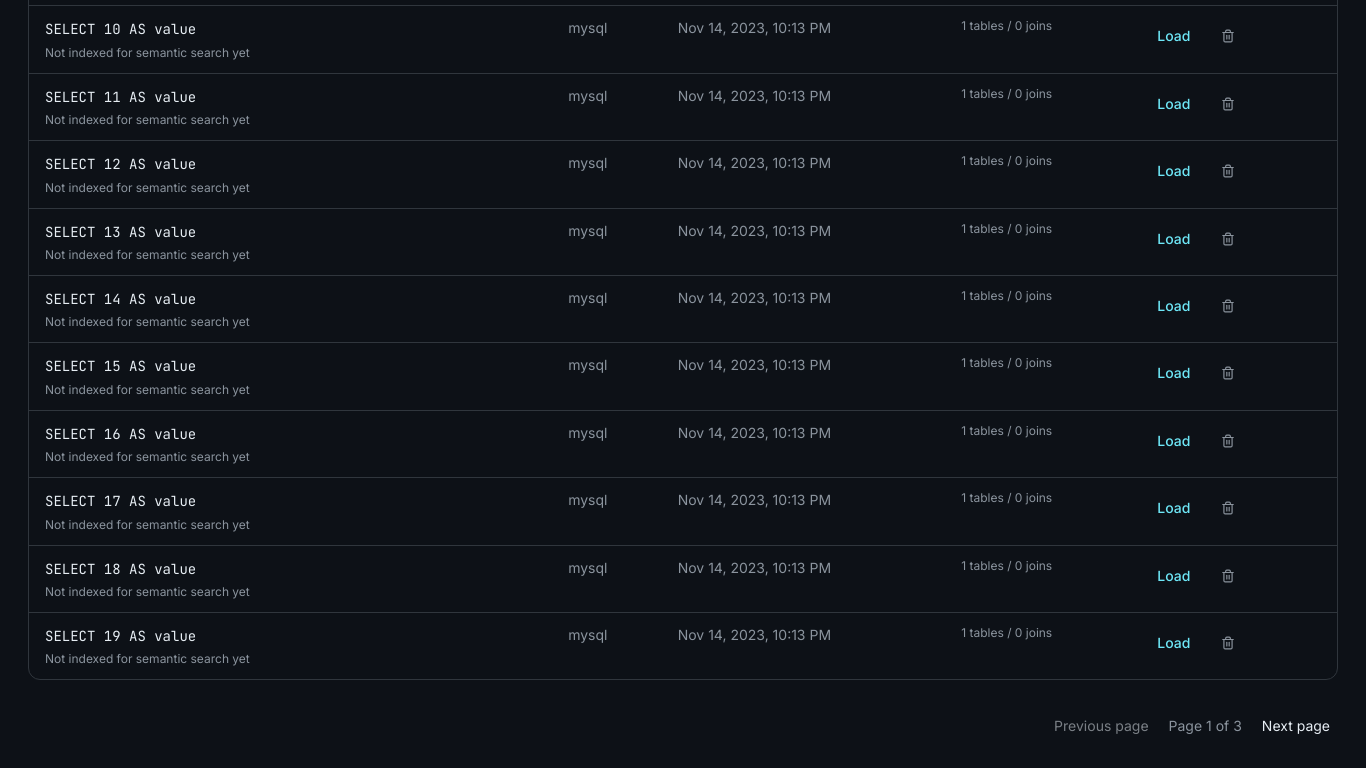
Test: Query history page › paginates 20 entries, filters across pages and resets the page on search
(page scrolled)
Expected: the text "SELECT 20 AS value" is not shown
Click the button "Next page": (1296, 726) [1254,704,1338,748]
(page scrolled)
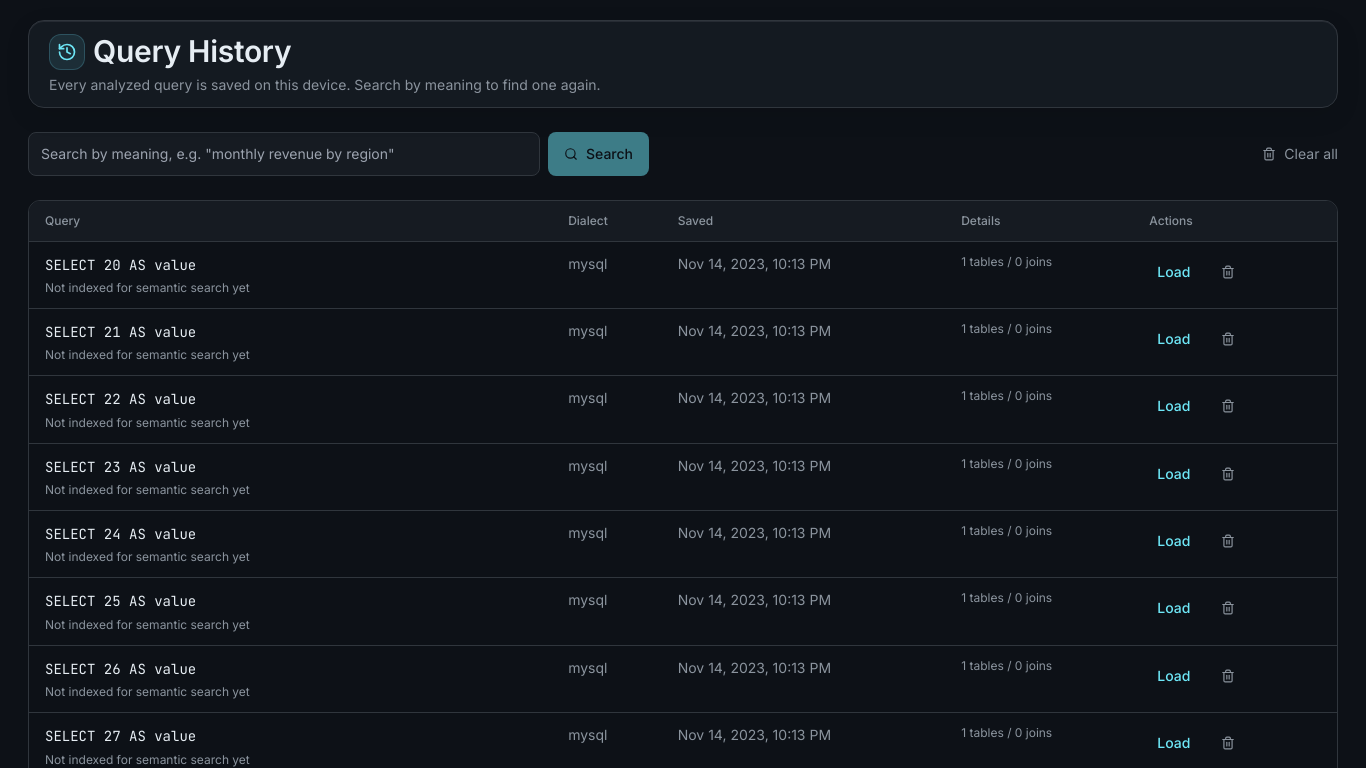
Expected: the text "SELECT 20 AS value" is shown, [45,256,196,274]
In the search field: (284, 154) [28,132,540,176], type "SELECT 40"
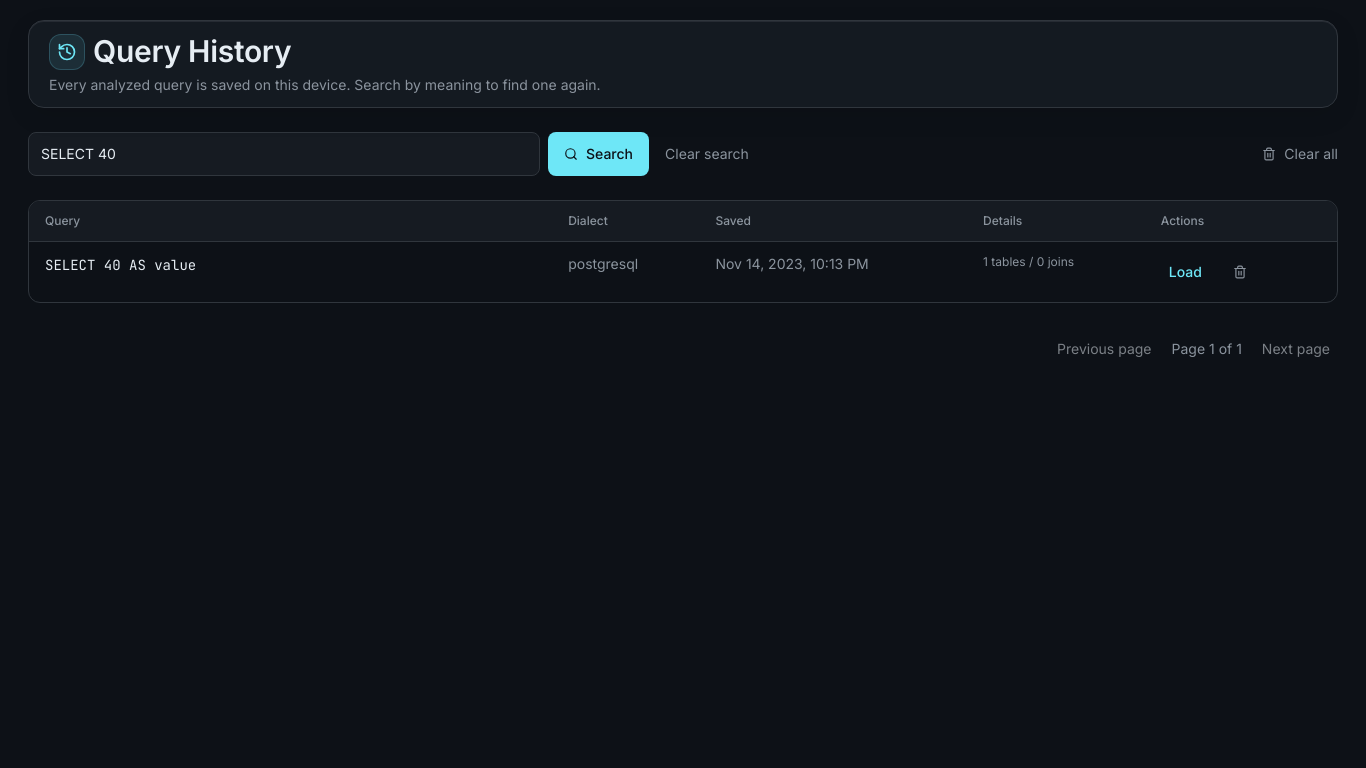
Expected: the text "SELECT 40 AS value" is shown, [45,256,196,274]
Expected: the text "Page 1 of 1" is shown, [1172,338,1242,358]
Click the button "Clear search": (707, 154) [657,132,757,176]
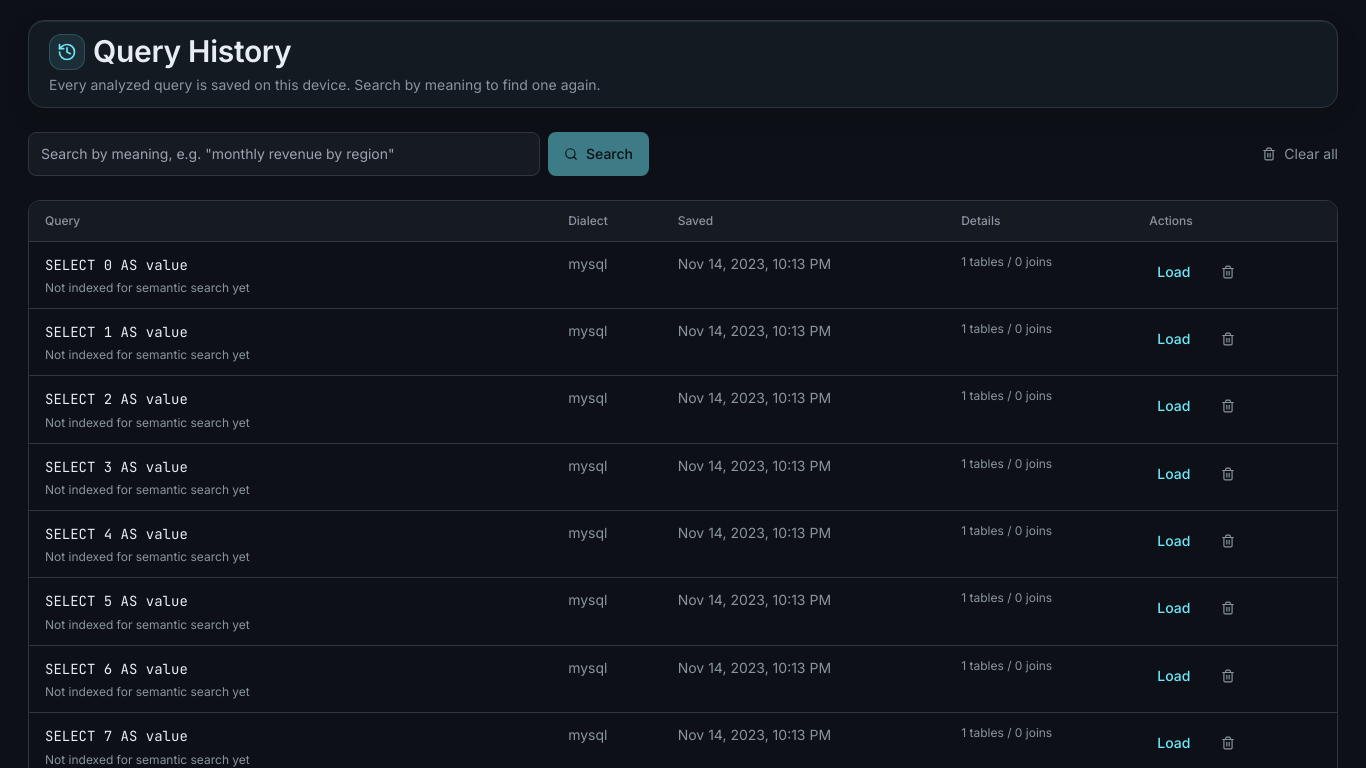
Expected: the text "SELECT 0 AS value" is shown, [45,256,188,274]
